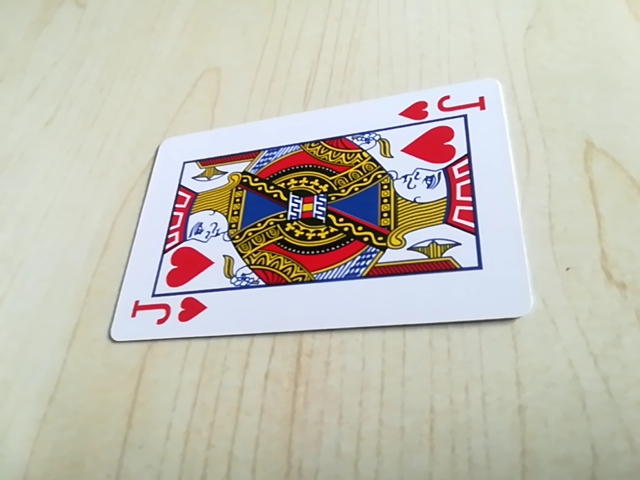hx j: (128, 291, 212, 335), (397, 92, 492, 124)
